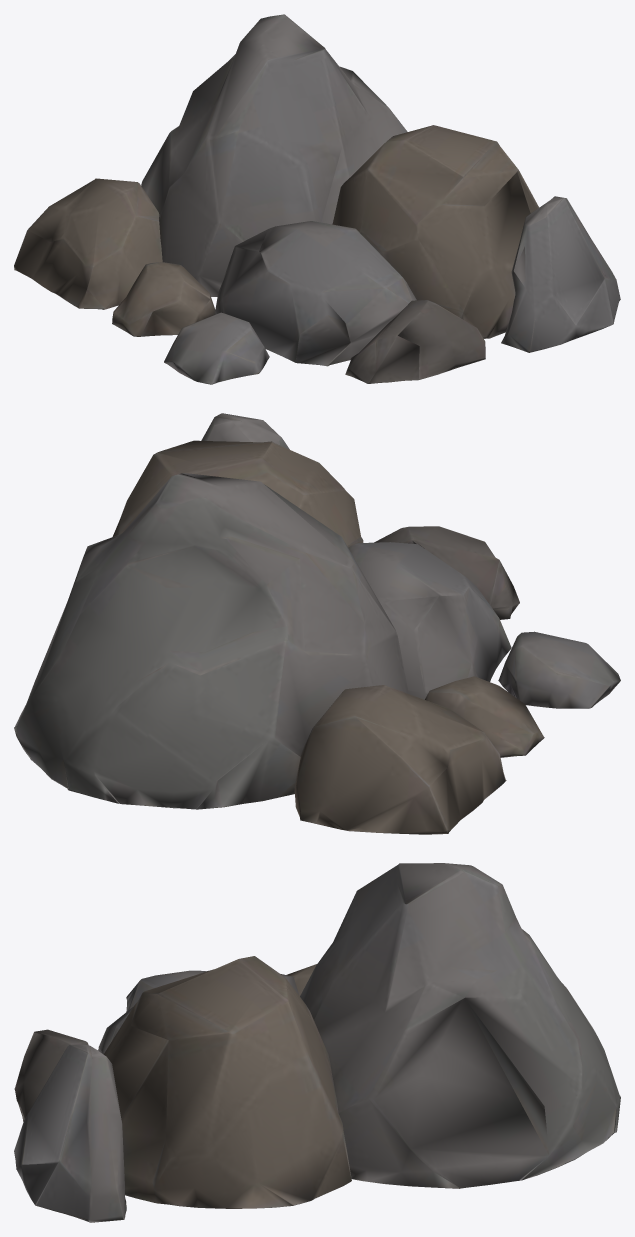
File: rocks.glb
The picture shows the model from 3 angles, top to bottom: view 1: azimuth 30°, elevation 25°; view 2: azimuth 150°, elevation 25°; view 3: azimuth 270°, elevation 25°; orthographic projection. The views are drawn at different scales.
Bounding box in the file's own units: 0.9048 × 0.435 × 0.9541.
1 material, 1 textured.
